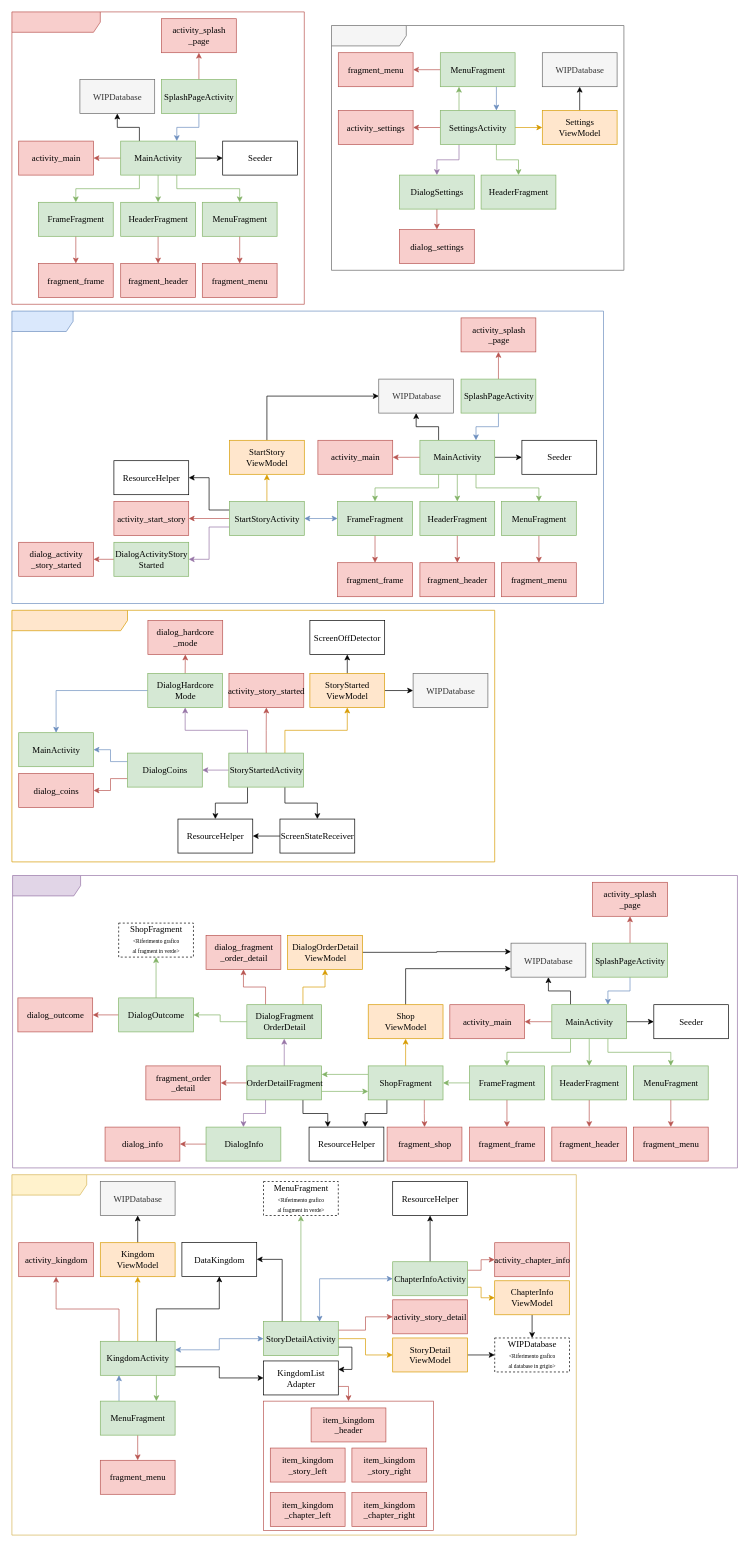
Some shapes in this 749 by 1547 pixel diagram are drawn without their labels. Here are the shapes that lost their labels. From the top down, the box of each, then its label:
(11, 11, 304, 304): Schermata principale
(331, 25, 624, 270): Configurare le preferenze
(11, 310, 604, 604): Iniziare una nuova storia
(11, 610, 495, 862): Sviluppare e concludere una nuova storia
(12, 875, 737, 1168): Navigare nello shop
(11, 1174, 576, 1535): Consultare i propri progressi
